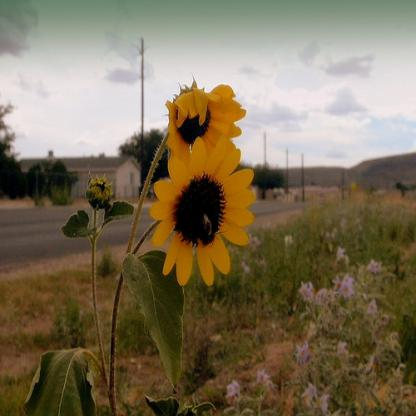SUN FLOWER: (137, 55, 273, 296)
